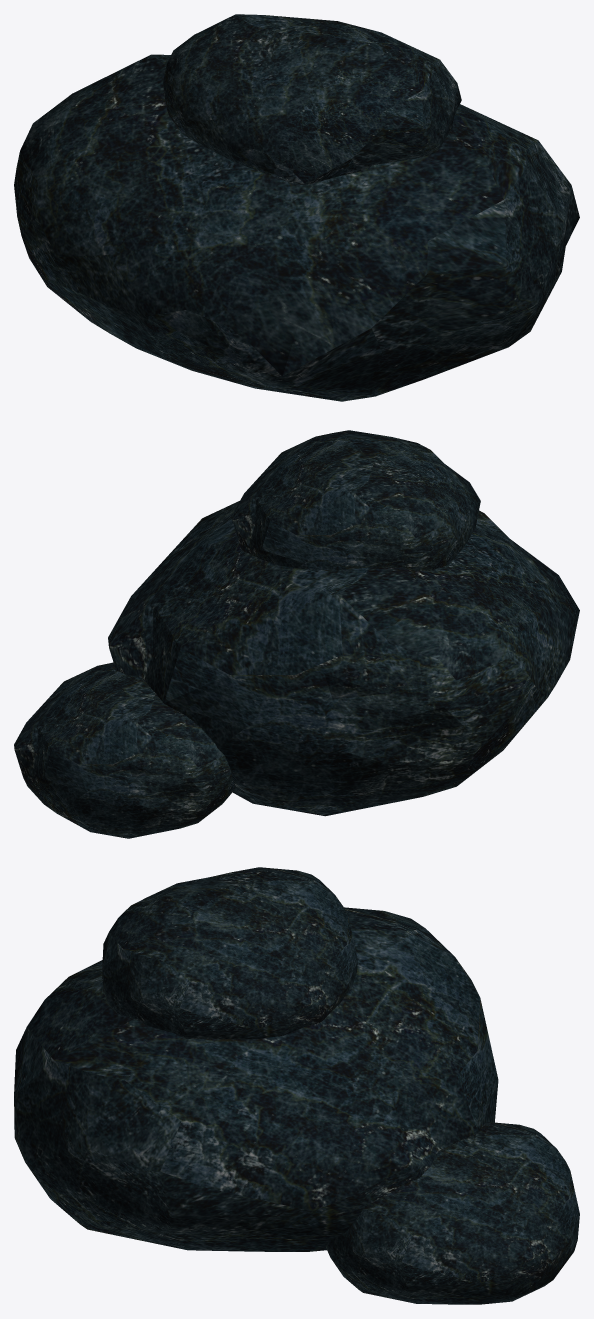
File: Rock Formation 3.fbx
3 renders of one model, top to bottom at view 1: azimuth 30°, elevation 25°; view 2: azimuth 150°, elevation 25°; view 3: azimuth 270°, elevation 25°, orthographic. The views are drawn at different scales.
Visible parts, largest first — view 1: Rocks.003; view 2: Rocks.003; view 3: Rocks.003.
Part boxes in pixels (left/top/right/bottom): Rocks.003: left=14, top=14, right=579, bottom=401; Rocks.003: left=14, top=430, right=579, bottom=838; Rocks.003: left=14, top=867, right=579, bottom=1304.
Bounding box in the file's own units: 233 × 155 × 244.
